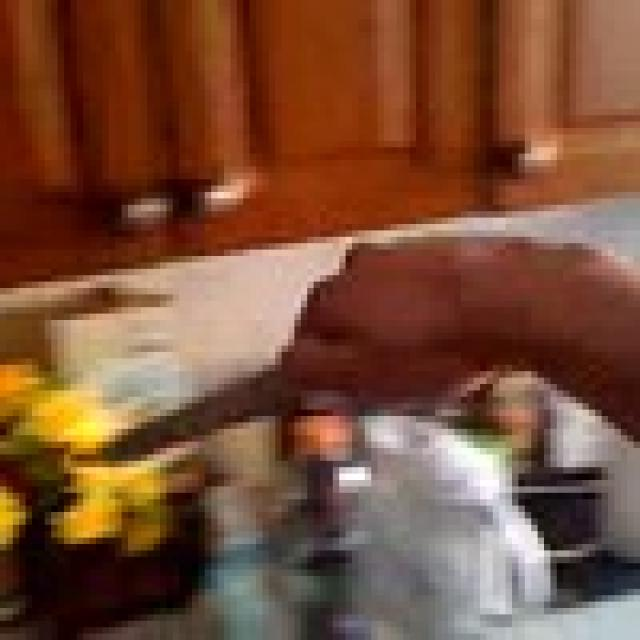Knife: (83, 346, 346, 460)
